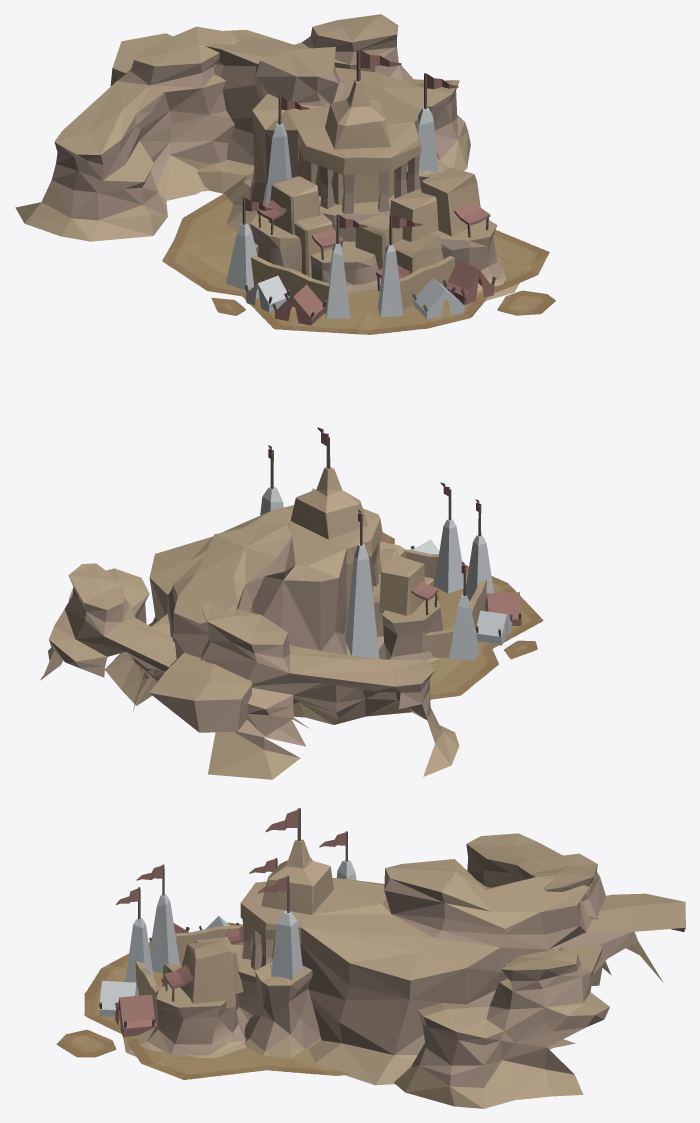
Rendered from townDesert1.fbx.
3 renders of one model, top to bottom at view 1: azimuth 30°, elevation 25°; view 2: azimuth 150°, elevation 25°; view 3: azimuth 270°, elevation 25°, orthographic. The views are drawn at different scales.
Visible parts, largest first — view 1: townDesert1, groundDecal; view 2: townDesert1, groundDecal; view 3: townDesert1, groundDecal.
Part boxes in pixels (x1,y1,x2,y2): townDesert1: (15, 14, 519, 325); groundDecal: (162, 194, 555, 334); townDesert1: (40, 427, 521, 779); groundDecal: (346, 532, 543, 699); townDesert1: (99, 808, 685, 1108); groundDecal: (56, 922, 349, 1079).
Bounding box in the file's own units: 6.55 × 3.02 × 8.72.
